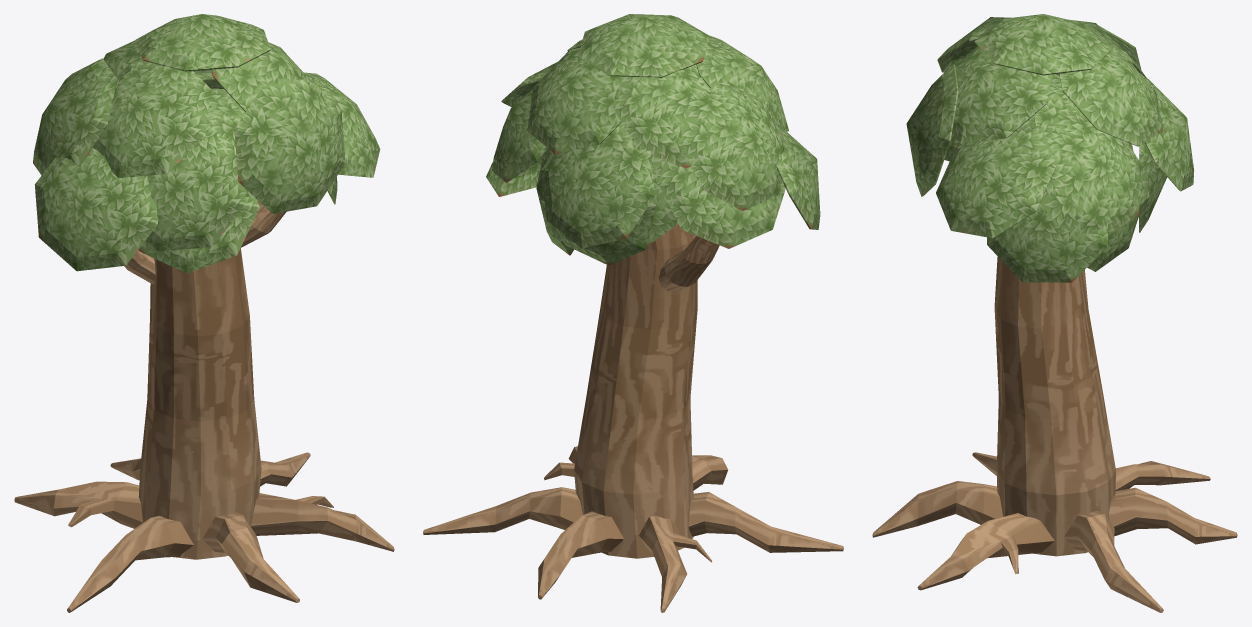
The model's file is bigtree002.fbx.
3 views of the same model, side by side, from view 1: azimuth 30°, elevation 25°; view 2: azimuth 150°, elevation 25°; view 3: azimuth 270°, elevation 25° (orthographic). The views are drawn at different scales.
Parts seen in each view (by area): view 1: bigtree; view 2: bigtree; view 3: bigtree.
Part boxes in pixels (x1=…): bigtree: x1=14, y1=14, x2=394, y2=612; bigtree: x1=423, y1=14, x2=843, y2=612; bigtree: x1=872, y1=14, x2=1237, y2=612.
Bounding box in the file's own units: 28.67 × 43.22 × 27.41.
1 material, 1 textured.
